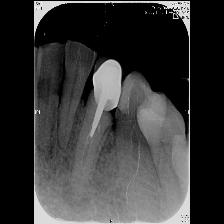apical_lesion: (57, 58, 126, 222)
